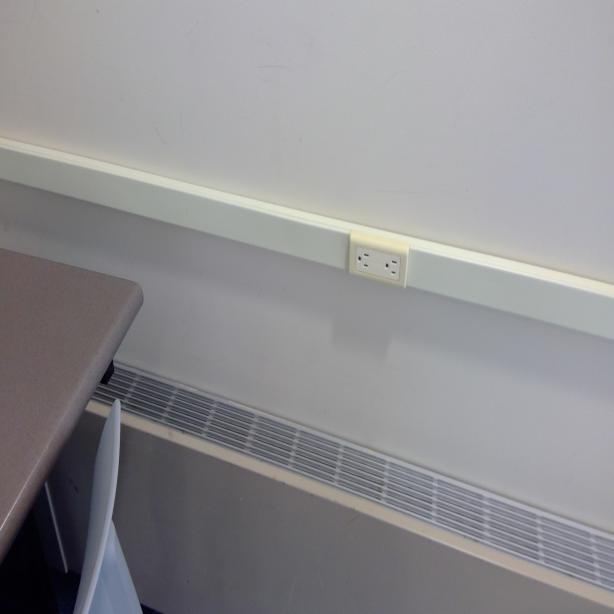typeb: (356, 248, 373, 272), (381, 254, 398, 278)
